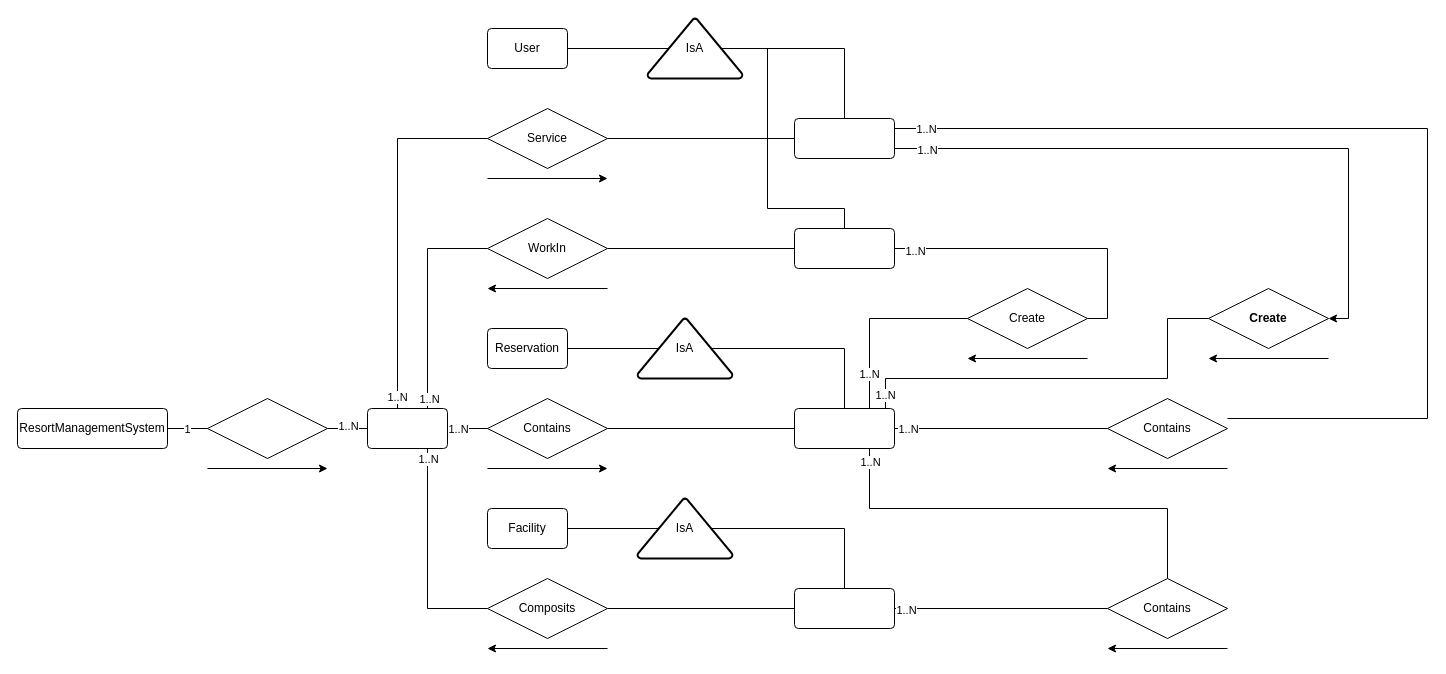
Some shapes in this 1446 by 674 pixel diagram are drawn without their labels. Here are the shapes that lost their labels. From the top down, the centre of each, then its label:
At [844,138]: "Guest".
At [844,248]: "FrontDeskAgent".
At [267,428]: "Manage".
At [407,428]: "Resort".
At [844,428]: "RoomRersevation".
At [844,608]: "Room".
